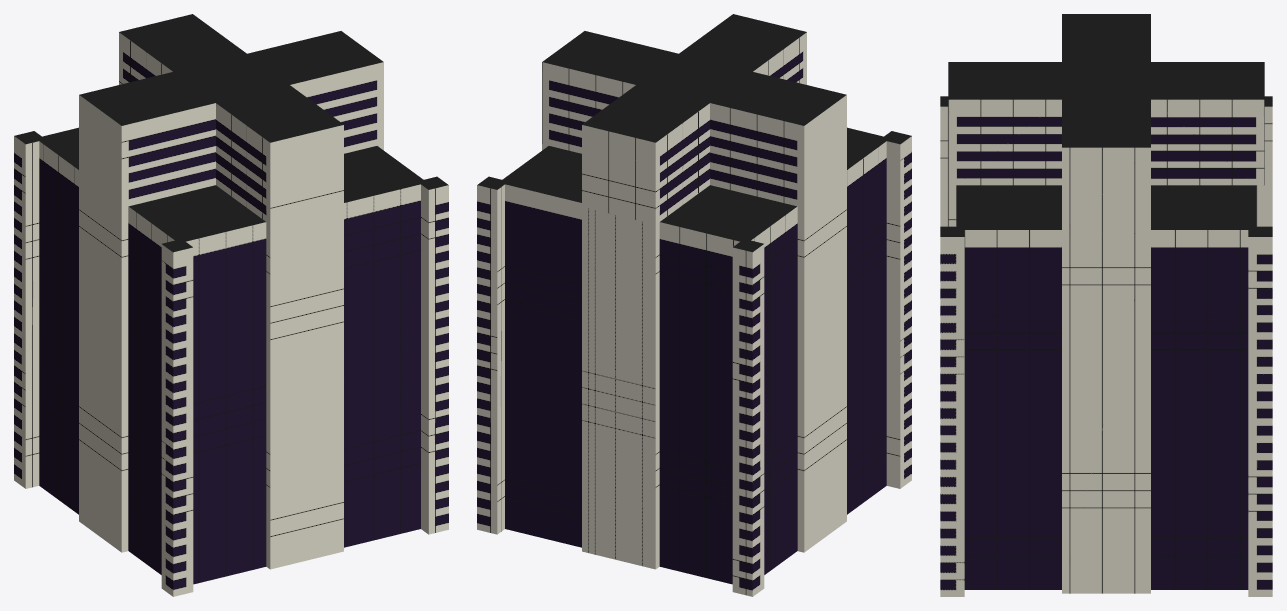
File: Skyscraper_2.fbx
3 views of the same model, side by side, from view 1: azimuth 30°, elevation 25°; view 2: azimuth 150°, elevation 25°; view 3: azimuth 270°, elevation 25° (orthographic). The views are drawn at different scales.
Visible parts, largest first — view 1: Skyscraper_2; view 2: Skyscraper_2; view 3: Skyscraper_2.
Part boxes in pixels (x1=…): Skyscraper_2: x1=14, y1=14, x2=448, y2=596; Skyscraper_2: x1=477, y1=14, x2=911, y2=596; Skyscraper_2: x1=940, y1=14, x2=1272, y2=596.
Size of the model in its own units: 6150 by 9100 by 6150.
Materials: 1 (1 with a texture image).
